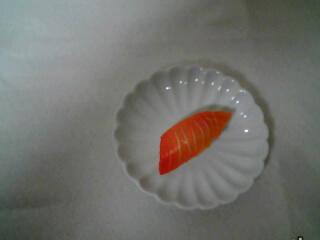002_classes: (156, 104, 233, 178)
